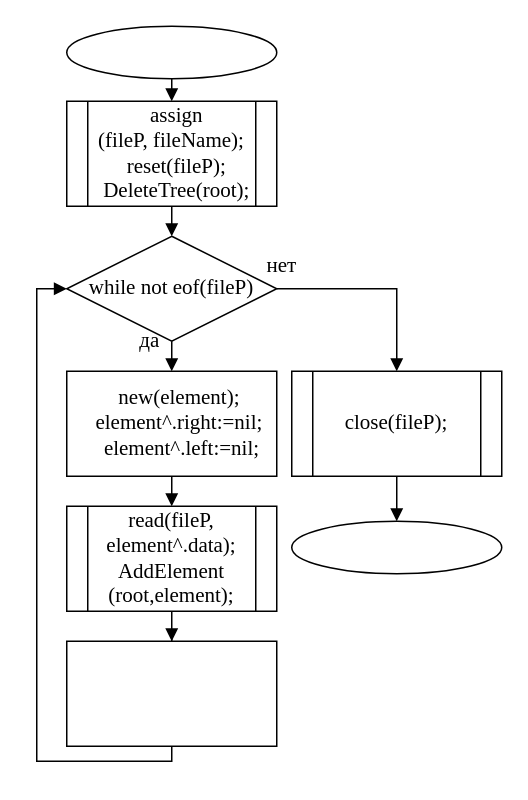
The diagram is 528 pixels wide and 800 high, and some of its shapes have lost their labels. Each missing label, with the box of its shape:
DownloadTree КОНЕЦ: (290, 520, 502, 574)
DownloadTree НАЧАЛО: (65, 25, 277, 79)
element:=nil;: (65, 640, 277, 746)
